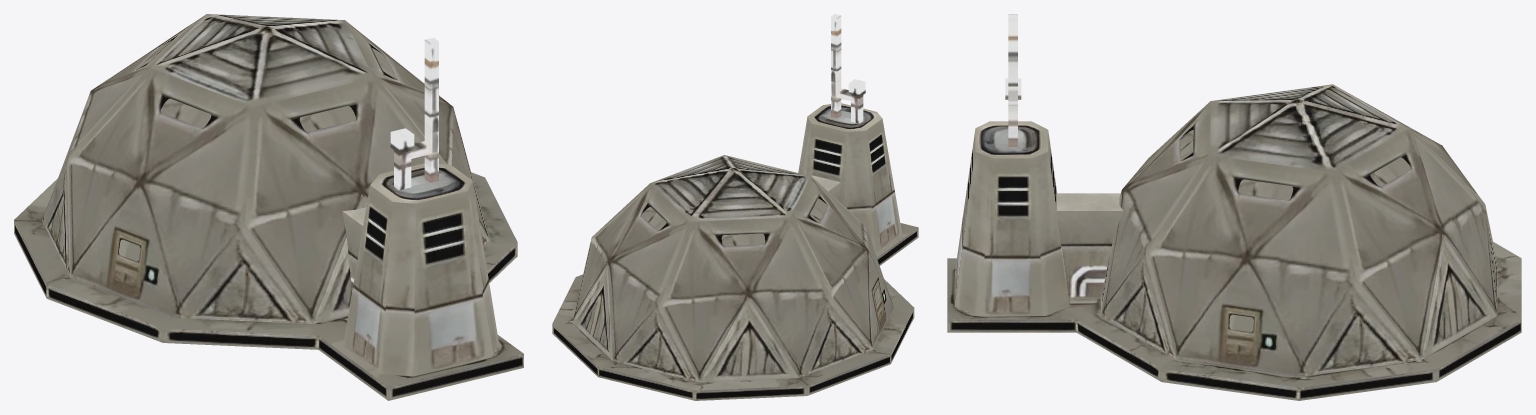
The model's file is geodesicdome_hdtex.glb.
3 views of the same model, side by side, from view 1: azimuth 30°, elevation 25°; view 2: azimuth 150°, elevation 25°; view 3: azimuth 270°, elevation 25° (orthographic). The views are drawn at different scales.
Parts seen in each view (by area): view 1: GeodesicDome, LitWin_GeodesicDome; view 2: GeodesicDome, LitWin_GeodesicDome; view 3: GeodesicDome, LitWin_GeodesicDome.
Boxes of the visible parts, x1,y1,x2,y2 form: GeodesicDome: (14, 14, 523, 400); LitWin_GeodesicDome: (119, 49, 396, 261); GeodesicDome: (552, 14, 918, 400); LitWin_GeodesicDome: (641, 198, 880, 304); GeodesicDome: (947, 14, 1521, 400); LitWin_GeodesicDome: (1180, 130, 1410, 331).
Size of the model in its own units: 14.62 by 10.03 by 17.93.
Materials: 1 (1 with a texture image).
